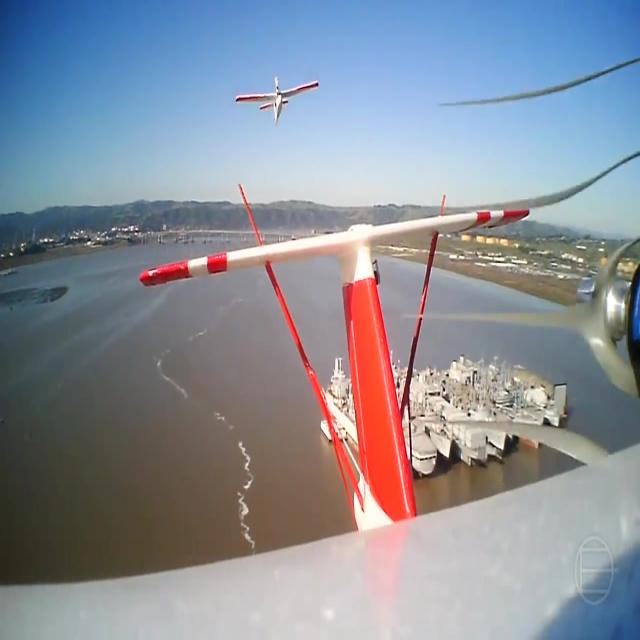iha: (132, 177, 552, 546), (266, 11, 288, 62)
